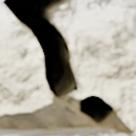brick: (0, 128, 124, 135)
crack: (2, 0, 135, 135)
